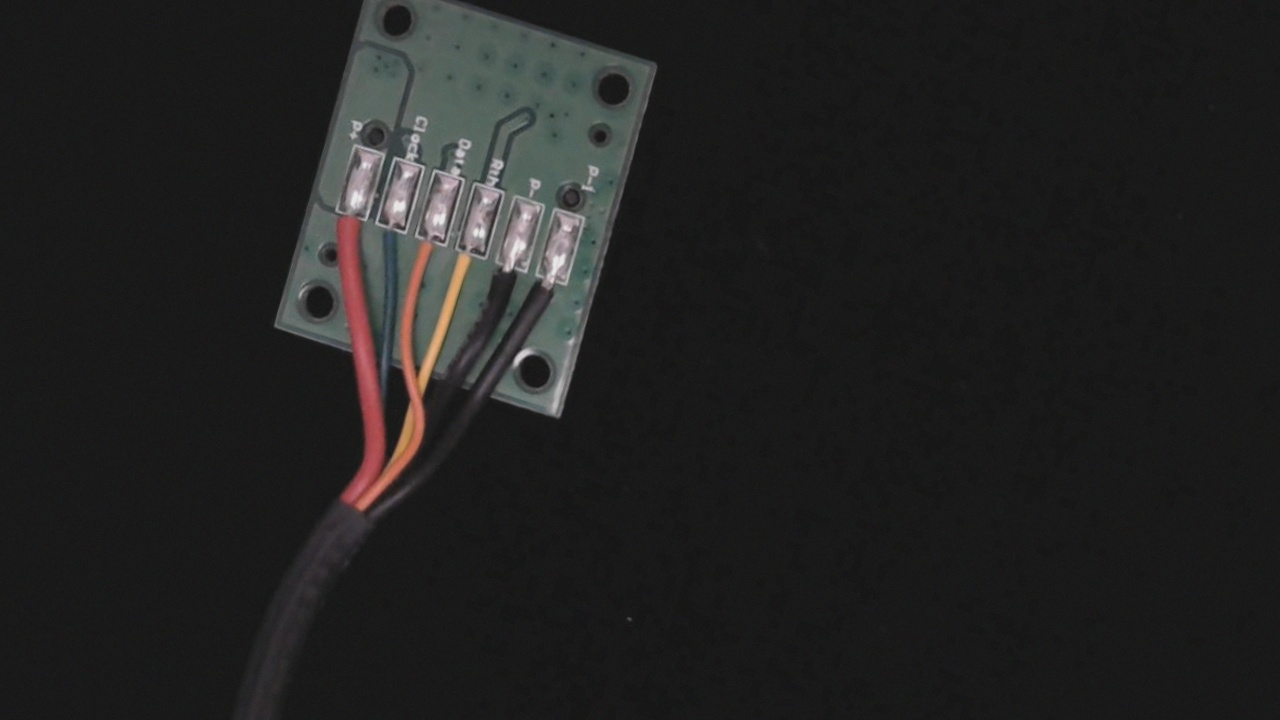Black: (472, 243, 533, 332)
Black1: (516, 259, 574, 342)
Green: (355, 205, 415, 291)
Orange: (393, 217, 452, 305)
Red: (317, 191, 377, 278)
Yellow: (431, 231, 493, 322)
